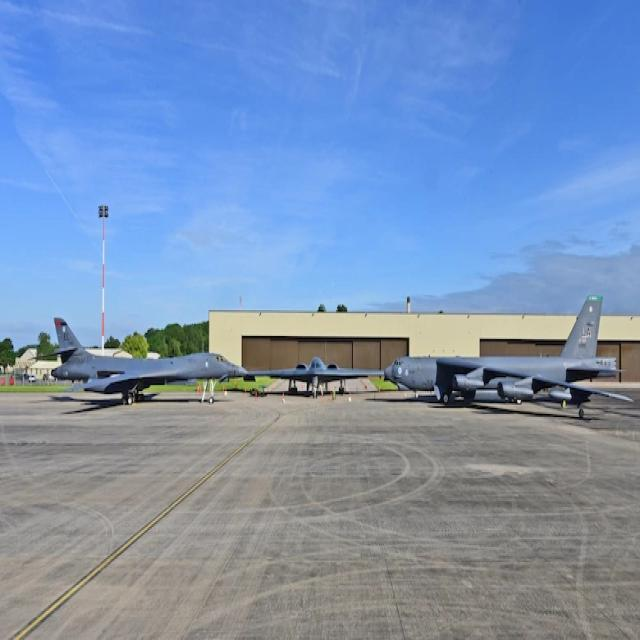MIL_Plane: (385, 293, 635, 419), (0, 316, 185, 405), (243, 356, 385, 399)
